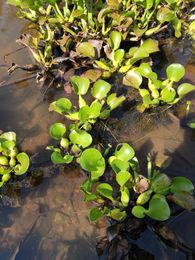water_hyacinth: (0, 1, 193, 224)
